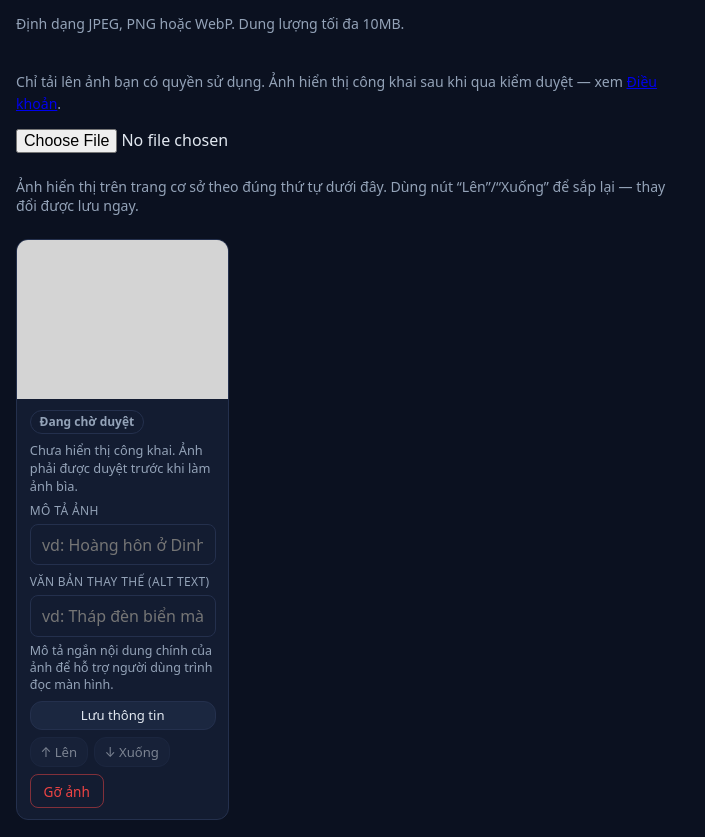
PhotosView — gỡ ảnh › xác nhận → gọi API đúng place/media rồi nạp lại
(page scrolled)
Click the button "Gỡ ảnh": (67, 791) [30,774,104,808]
(page scrolled)
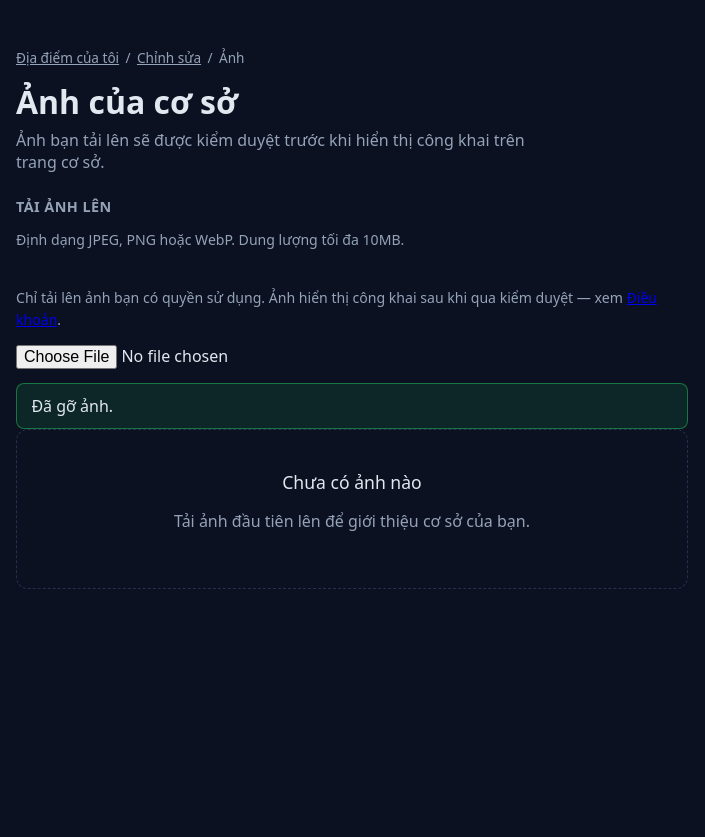
Check: the text "Đã gỡ ảnh." is shown, box [16,383,688,429]
